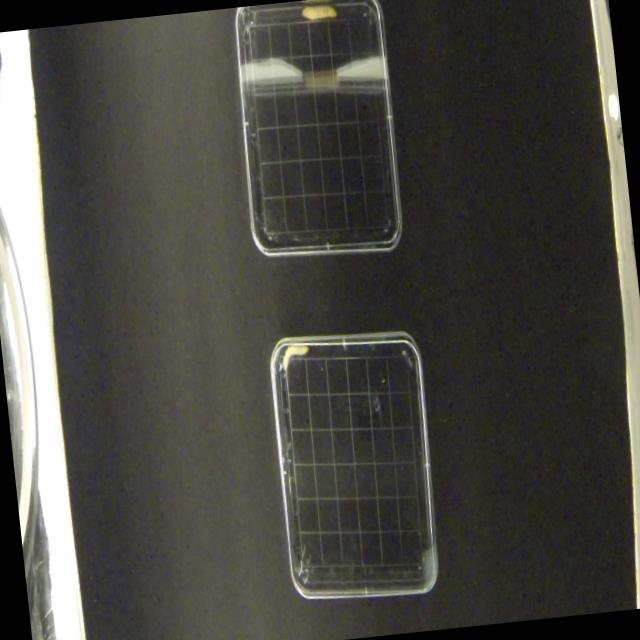larva: (301, 0, 338, 23), (280, 344, 310, 368)
